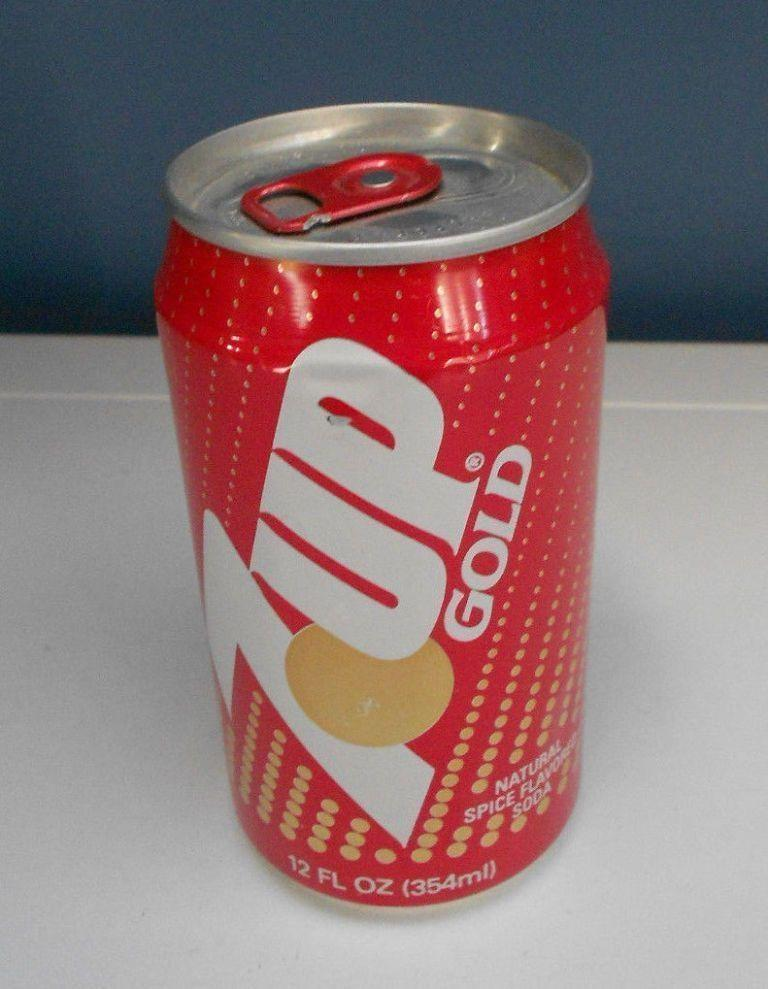tin can: (150, 98, 611, 920)
